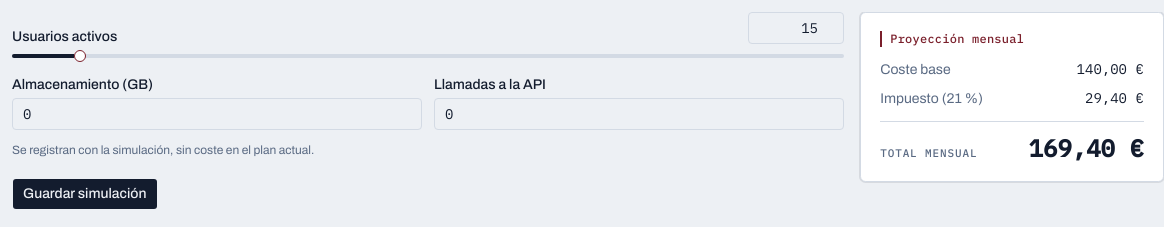
Test case: SimulationForm — el backend manda sobre la proyección (ADR-006) › no avisa cuando coinciden: no hay nada que explicar
Click the button "Guardar simulación" at (85, 194), box [12, 178, 158, 210]
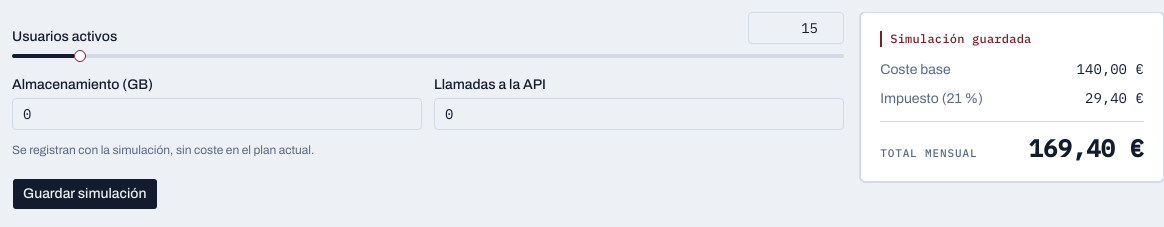
Expected: the text "169,40 €" is shown, [1029, 132, 1144, 164]
Expected: the text "Simulación guardada" is shown, [880, 31, 1144, 47]
